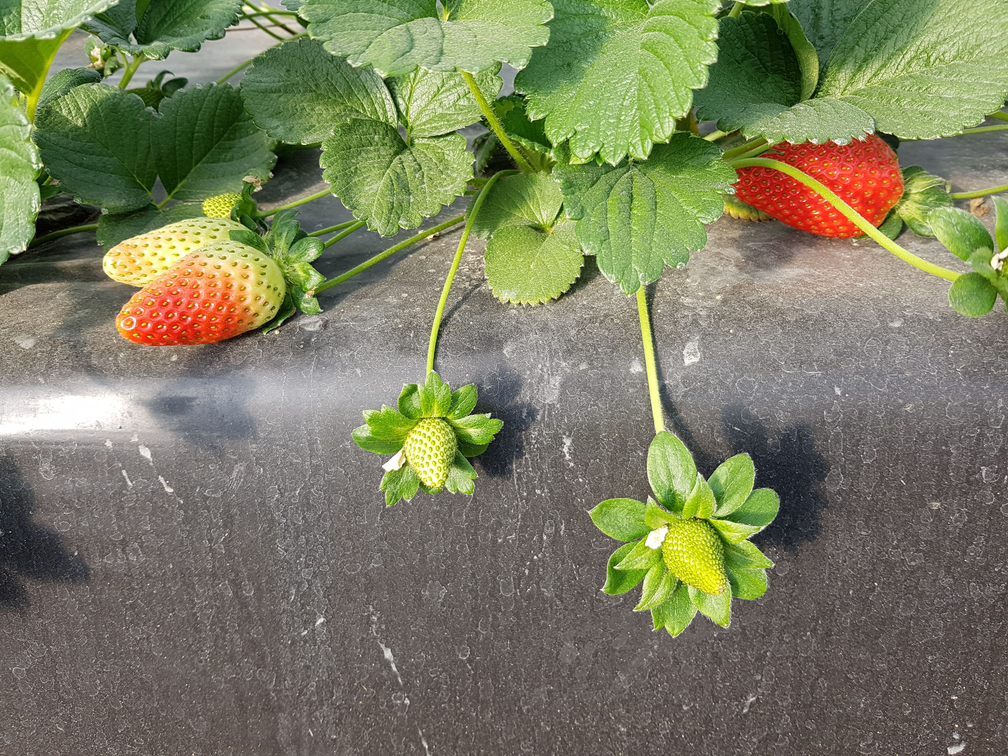peduncle: (736, 158, 961, 280), (426, 171, 515, 373), (316, 216, 464, 292), (463, 71, 531, 170), (637, 286, 664, 434), (260, 188, 329, 216), (324, 221, 364, 248), (309, 221, 353, 235)
strawberry: (116, 241, 285, 345), (760, 135, 902, 227), (103, 217, 238, 286), (736, 167, 861, 237), (661, 518, 725, 594), (402, 418, 456, 488)
